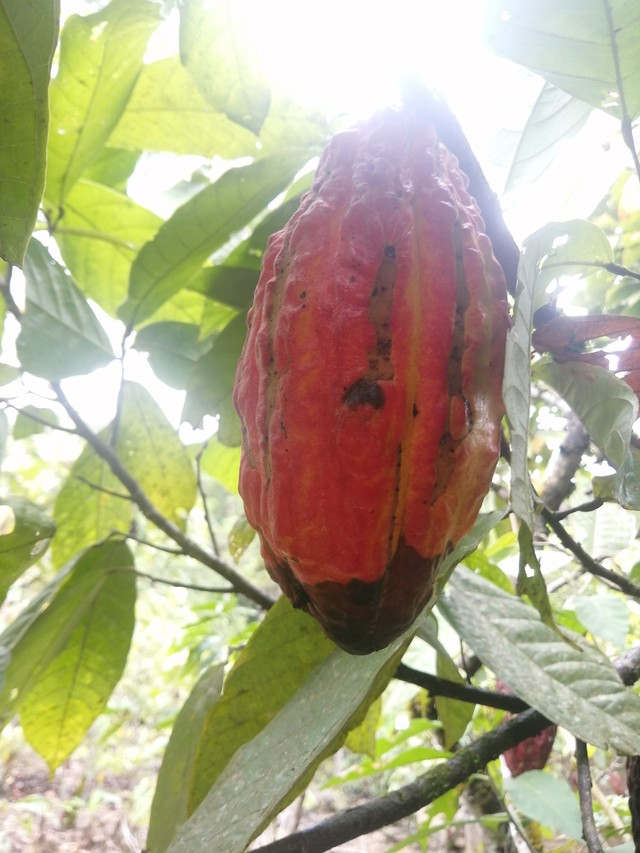carmenta foraseminis: (229, 100, 515, 662)
